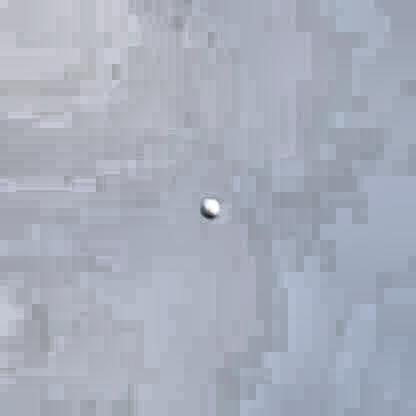golfball: (195, 197, 219, 219)
